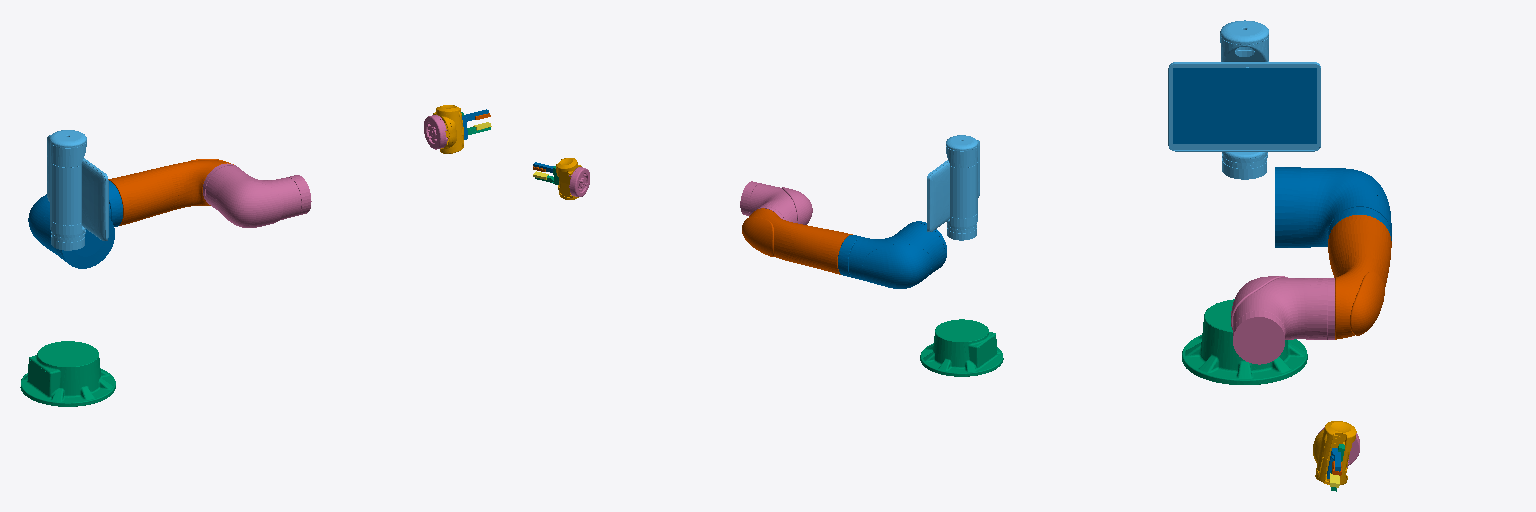
The robot description file, URDF, robot "sawyer_instanceable":
<?xml version="1.0" encoding="UTF-8"?>
<robot name="sawyer_instanceable">
  <joint name="display_joint" type="fixed">
    <origin xyz="0.105 0. -0.03 " rpy="3.1415927 0. 1.5707964"/>
    <parent link="head"/>
    <child link="screen"/>
  </joint>
  <joint name="head_pan" type="revolute">
    <origin xyz="0.2965 0. 0. " rpy="0. 0. 0."/>
    <parent link="right_l0"/>
    <child link="head"/>
    <axis xyz="1. 0. 0."/>
    <limit lower="-5.0951997" upper="0.9064" effort="480." velocity="1.8"/>
  </joint>
  <joint name="right_arm_mount" type="fixed">
    <origin xyz="0. 0. 0." rpy="0. 0. 0."/>
    <parent link="base"/>
    <child link="right_arm_base_link"/>
  </joint>
  <joint name="right_j0" type="revolute">
    <origin xyz="0. 0. 0.08" rpy="0. -1.5707964 0. "/>
    <parent link="right_arm_base_link"/>
    <child link="right_l0"/>
    <axis xyz="1. 0. 0."/>
    <limit lower="-3.0502998" upper="3.0502998" effort="4800." velocity="1.74"/>
  </joint>
  <joint name="right_j1" type="revolute">
    <origin xyz="0.237 0.05 -0.081" rpy="1.5707964 0. 1.5707964"/>
    <parent link="right_l0"/>
    <child link="right_l1"/>
    <axis xyz="1. 0. 0."/>
    <limit lower="-3.8094999" upper="2.2736" effort="4800." velocity="1.3279999"/>
  </joint>
  <joint name="right_j2" type="revolute">
    <origin xyz="0.1425 -0.14 -0. " rpy="-0. 0. -1.5707963"/>
    <parent link="right_l1"/>
    <child link="right_l2"/>
    <axis xyz="1. 0. 0."/>
    <limit lower="-3.0425998" upper="3.0425998" effort="2400." velocity="1.957"/>
  </joint>
  <joint name="right_j3" type="revolute">
    <origin xyz="0.26 -0.042 -0.0000001" rpy="0.0000002 -0. 1.5707963"/>
    <parent link="right_l2"/>
    <child link="right_l3"/>
    <axis xyz="1. 0. 0."/>
    <limit lower="-3.0438999" upper="3.0438999" effort="2400." velocity="1.957"/>
  </joint>
  <joint name="right_j4" type="revolute">
    <origin xyz="-0.1265 -0.1249999 0. " rpy="-0.0000001 -0.0000001 -1.5707963"/>
    <parent link="right_l3"/>
    <child link="right_l4"/>
    <axis xyz="1. 0. 0."/>
    <limit lower="-2.9760998" upper="2.9760998" effort="540." velocity="3.4849998"/>
  </joint>
  <joint name="right_j5" type="revolute">
    <origin xyz="0.2749999 0.031 0. " rpy="0.0000001 -0.0000001 1.5707963"/>
    <parent link="right_l4"/>
    <child link="right_l5"/>
    <axis xyz="1. 0. 0."/>
    <limit lower="-2.9760998" upper="2.9760998" effort="540." velocity="3.4849998"/>
  </joint>
  <joint name="right_j6" type="revolute">
    <origin xyz="0.1053 -0.11 0. " rpy="2.9670625 0.0000072 -1.5707961"/>
    <parent link="right_l5"/>
    <child link="right_l6"/>
    <axis xyz="1. 0. 0."/>
    <limit lower="-4.7123996" upper="4.7123996" effort="540." velocity="4.5450003"/>
  </joint>
  <joint name="right_l6_right_hand" type="fixed">
    <origin xyz="0.0245 0. 0. " rpy="1.5707961 0.0000001 0.0000002"/>
    <parent link="right_l6"/>
    <child link="sawyer_right_hand"/>
  </joint>
  <joint name="right_connector_plate_base_joint" type="fixed">
    <origin xyz="0. 0. 0.0018" rpy="0. 0. 0."/>
    <parent link="right_gripper_base"/>
    <child link="right_connector_plate_base"/>
  </joint>
  <joint name="right_connector_plate_mount_joint" type="fixed">
    <origin xyz="0. -0. 0.0176001" rpy="0. 0. 0."/>
    <parent link="right_connector_plate_base"/>
    <child link="right_connector_plate_mount"/>
  </joint>
  <joint name="right_electric_gripper_base_joint" type="fixed">
    <origin xyz="0. -0. -0.0000001" rpy="0. 0. 0."/>
    <parent link="right_connector_plate_mount"/>
    <child link="right_electric_gripper_base"/>
  </joint>
  <joint name="right_gripper_base_joint" type="fixed">
    <origin xyz="0. 0. -0.005" rpy="-1.5707964 1.5707964 -1.5707964"/>
    <parent link="sawyer_right_hand"/>
    <child link="right_gripper_base"/>
  </joint>
  <joint name="right_gripper_l_finger_joint" type="prismatic">
    <origin xyz="0.003 -0.0015 0.04552" rpy="-0. 0.0000001 -0.0000002"/>
    <parent link="right_electric_gripper_base"/>
    <child link="right_gripper_l_finger"/>
    <axis xyz="0. 1. 0."/>
    <limit lower="0." upper="0.020833" effort="20." velocity="5."/>
  </joint>
  <joint name="right_gripper_l_finger_tip_joint" type="fixed">
    <origin xyz="-0. 0.01725 0.075 " rpy="0.0000001 0. -0.0000001"/>
    <parent link="right_gripper_l_finger"/>
    <child link="right_gripper_l_finger_tip"/>
  </joint>
  <joint name="right_gripper_r_finger_joint" type="prismatic">
    <origin xyz="0.003 0.0015 0.04552" rpy="-0. 0.0000001 -0.0000002"/>
    <parent link="right_electric_gripper_base"/>
    <child link="right_gripper_r_finger"/>
    <axis xyz="0. 1. 0."/>
    <limit lower="-0.020833" upper="0." effort="340282346638528859811704183484516925440." velocity="5."/>
  </joint>
  <joint name="right_gripper_r_finger_tip_joint" type="fixed">
    <origin xyz="-0. -0.01725 0.0750001" rpy="0. -0.0000001 0. "/>
    <parent link="right_gripper_r_finger"/>
    <child link="right_gripper_r_finger_tip"/>
  </joint>
  <joint name="right_gripper_tip_joint" type="fixed">
    <origin xyz="0. 0. 0.14062" rpy="0. 0. 0."/>
    <parent link="right_gripper_base"/>
    <child link="right_gripper_tip"/>
  </joint>
  <joint name="root_joint" type="fixed">
    <origin xyz="0. 0. 0." rpy="0. 0. 0."/>
    <parent link="sawyer"/>
    <child link="base"/>
  </joint>
  <joint name="torso_t0" type="fixed">
    <origin xyz="0. 0. 0." rpy="0. 0. 0."/>
    <parent link="base"/>
    <child link="torso"/>
  </joint>
  <link name="base">
    <inertial>
      <origin xyz="0. 0. 0." rpy="0. 0. 0."/>
      <mass value="0."/>
      <inertia ixx="0." ixy="0." ixz="0." iyy="0." iyz="0." izz="0."/>
    </inertial>
  </link>
  <link name="head">
    <inertial>
      <origin xyz="0.0053207 -0.0000265 0.1021 " rpy="0. 0. 0."/>
      <mass value="1.5795"/>
      <inertia ixx="0.011833" ixy="0." ixz="0." iyy="0.0082709" iyz="0." izz="0.0049661"/>
    </inertial>
    <visual>
      <origin xyz="0. 0. 0." rpy="0. 1.5707964 0. "/>
      <geometry>
        <mesh filename="./meshes/head_visuals_mesh_0.obj" scale="1. 1. 1."/>
      </geometry>
    </visual>
    <collision>
      <origin xyz="0.08 0. 0. " rpy="0. 1.5707964 0. "/>
      <geometry>
        <sphere radius="0.18"/>
      </geometry>
    </collision>
  </link>
  <link name="right_arm_base_link">
    <inertial>
      <origin xyz="-0.0006241 -0.000028 0.065404 " rpy="0. 0. 0."/>
      <mass value="2.0687001"/>
      <inertia ixx="0.0067599" ixy="0." ixz="0." iyy="0.0067877" iyz="0." izz="0.0074031"/>
    </inertial>
    <visual>
      <origin xyz="0. 0. 0." rpy="0. 0. 0."/>
      <geometry>
        <mesh filename="./meshes/right_arm_base_link_visuals_mesh_0.obj" scale="1. 1. 1."/>
      </geometry>
    </visual>
    <collision>
      <origin xyz="0. 0. 0.12" rpy="0. 0. 0."/>
      <geometry>
        <cylinder radius="0.08" length="0.24"/>
      </geometry>
    </collision>
  </link>
  <link name="right_l0">
    <inertial>
      <origin xyz="0.024366 0.010969 0.14363 " rpy="0. 0. 0."/>
      <mass value="5.3213"/>
      <inertia ixx="0.053314" ixy="0." ixz="0." iyy="0.057902" iyz="0." izz="0.023659"/>
    </inertial>
    <visual>
      <origin xyz="0. 0. 0." rpy="0. 1.5707964 0. "/>
      <geometry>
        <mesh filename="./meshes/right_l0_visuals_mesh_0.obj" scale="1. 1. 1."/>
      </geometry>
    </visual>
    <collision>
      <origin xyz="0.23 0. -0.08" rpy="0. 1.5707964 0. "/>
      <geometry>
        <sphere radius="0.07"/>
      </geometry>
    </collision>
  </link>
  <link name="right_l1">
    <inertial>
      <origin xyz="-0.0030849 -0.026811 0.092521 " rpy="0. 0. 0."/>
      <mass value="4.5050001"/>
      <inertia ixx="0.022398" ixy="0." ixz="0." iyy="0.014613" iyz="0." izz="0.017295"/>
    </inertial>
    <visual>
      <origin xyz="0. 0. 0." rpy="-0. 1.5707963 0. "/>
      <geometry>
        <mesh filename="./meshes/right_l1_visuals_mesh_0.obj" scale="1. 1. 1."/>
      </geometry>
    </visual>
    <collision>
      <origin xyz="0.1225 0. -0. " rpy="-0. 1.5707963 0. "/>
      <geometry>
        <sphere radius="0.07"/>
      </geometry>
    </collision>
  </link>
  <link name="right_l2">
    <inertial>
      <origin xyz="-0.0001604 -0.014967 0.13582 " rpy="0. 0. 0."/>
      <mass value="1.745"/>
      <inertia ixx="0.025506" ixy="0." ixz="0." iyy="0.0253" iyz="0." izz="0.0034179"/>
    </inertial>
    <visual>
      <origin xyz="-0. -0. -0." rpy="2.9025872 1.5707961 2.9025872"/>
      <geometry>
        <mesh filename="./meshes/right_l2_visuals_mesh_0.obj" scale="1. 1. 1."/>
      </geometry>
    </visual>
    <collision>
      <origin xyz="0.08 -0. -0. " rpy="2.9025872 1.5707961 2.9025872"/>
      <geometry>
        <cylinder radius="0.06" length="0.34"/>
      </geometry>
    </collision>
  </link>
  <link name="right_l3">
    <inertial>
      <origin xyz="-0.0048135 -0.0281 -0.084154 " rpy="0. 0. 0."/>
      <mass value="2.5097001"/>
      <inertia ixx="0.01016" ixy="0." ixz="0." iyy="0.0065685" iyz="0." izz="0.0069078"/>
    </inertial>
    <visual>
      <origin xyz="0. 0.0000001 -0. " rpy="-2.1431708 1.5707961 -2.1431708"/>
      <geometry>
        <mesh filename="./meshes/right_l3_visuals_mesh_0.obj" scale="1. 1. 1."/>
      </geometry>
    </visual>
    <collision>
      <origin xyz="-0.12 -0.0099999 0. " rpy="-2.1431708 1.5707961 -2.1431708"/>
      <geometry>
        <sphere radius="0.06"/>
      </geometry>
    </collision>
  </link>
  <link name="right_l4">
    <inertial>
      <origin xyz="-0.0018844 0.0069001 0.1341 " rpy="0. 0. 0."/>
      <mass value="1.1136"/>
      <inertia ixx="0.013557" ixy="0." ixz="0." iyy="0.013555" iyz="0." izz="0.0013658"/>
    </inertial>
    <visual>
      <origin xyz="-0.0000001 0.0000001 0.0000001" rpy="2.5692182 1.5707961 2.5692182"/>
      <geometry>
        <mesh filename="./meshes/right_l4_visuals_mesh_0.obj" scale="1. 1. 1."/>
      </geometry>
    </visual>
    <collision>
      <origin xyz="0.1099999 0.0000001 0. " rpy="2.5692182 1.5707961 2.5692182"/>
      <geometry>
        <cylinder radius="0.045" length="0.3"/>
      </geometry>
    </collision>
  </link>
  <link name="right_l5">
    <inertial>
      <origin xyz="0.0061133 -0.023697 0.076416 " rpy="0. 0. 0."/>
      <mass value="1.5625"/>
      <inertia ixx="0.0047328" ixy="0." ixz="0." iyy="0.0029676" iyz="0." izz="0.0031762"/>
    </inertial>
    <visual>
      <origin xyz="-0. 0. -0." rpy="-2.1431708 1.5707961 -2.1431708"/>
      <geometry>
        <mesh filename="./meshes/right_l5_visuals_mesh_0.obj" scale="1. 1. 1."/>
      </geometry>
    </visual>
    <collision>
      <origin xyz="0.1 0. -0. " rpy="-2.1431708 1.5707961 -2.1431708"/>
      <geometry>
        <sphere radius="0.06"/>
      </geometry>
    </collision>
  </link>
  <link name="right_l6">
    <inertial>
      <origin xyz="-0.0000081 0.0085838 -0.0049566" rpy="0. 0. 0."/>
      <mass value="0.3292"/>
      <inertia ixx="0.0003111" ixy="0." ixz="0." iyy="0.0002155" iyz="0." izz="0.0003598"/>
    </inertial>
    <visual>
      <origin xyz="-0. -0. 0." rpy="-0.0000002 1.5707963 0. "/>
      <geometry>
        <mesh filename="./meshes/right_l6_visuals_mesh_0.obj" scale="1. 1. 1."/>
      </geometry>
    </visual>
    <collision>
      <origin xyz="-0.01 0.015 0. " rpy="-0.0000002 1.5707963 0. "/>
      <geometry>
        <cylinder radius="0.055" length="0.05"/>
      </geometry>
    </collision>
  </link>
  <link name="sawyer"/>
  <link name="sawyer_right_hand">
    <inertial>
      <origin xyz="0. 0. 0." rpy="0. 0. 0."/>
      <mass value="0."/>
      <inertia ixx="0." ixy="0." ixz="0." iyy="0." iyz="0." izz="0."/>
    </inertial>
  </link>
  <link name="screen">
    <inertial>
      <origin xyz="0. 0. 0." rpy="0. 0. 0."/>
      <mass value="0.0001"/>
      <inertia ixx="0." ixy="0." ixz="0." iyy="0." iyz="0." izz="0."/>
    </inertial>
    <visual>
      <origin xyz="0. -0. 0." rpy="0. 0. 0."/>
      <geometry>
        <box size="0.24 0.14 0.002"/>
      </geometry>
    </visual>
    <collision>
      <origin xyz="0. -0. 0." rpy="0. 0. 0."/>
      <geometry>
        <sphere radius="0.001"/>
      </geometry>
    </collision>
  </link>
  <link name="torso">
    <inertial>
      <origin xyz="0. 0. 0." rpy="0. 0. 0."/>
      <mass value="0.0001"/>
      <inertia ixx="0." ixy="0." ixz="0." iyy="0." iyz="0." izz="0."/>
    </inertial>
    <visual>
      <origin xyz="0. 0. 0." rpy="0. 0. 0."/>
      <geometry>
        <box size="0.001 0.001 0.001"/>
      </geometry>
    </visual>
  </link>
  <link name="right_connector_plate_base">
    <inertial>
      <origin xyz="0. 0. 0." rpy="0. 0. 0."/>
      <mass value="0.000001"/>
      <inertia ixx="0.001" ixy="0." ixz="0." iyy="0.001" iyz="0." izz="0.001"/>
    </inertial>
    <visual>
      <origin xyz="-0. 0. 0.0000002" rpy="0. 0. 0."/>
      <geometry>
        <mesh filename="meshes/right_connector_plate_base_visuals.obj" scale="1. 1. 1."/>
      </geometry>
    </visual>
    <collision>
      <origin xyz="0. -0. 0.0135001" rpy="0. 0. 0."/>
      <geometry>
        <cylinder radius="0.04" length="0.0302"/>
      </geometry>
    </collision>
  </link>
  <link name="right_connector_plate_mount">
    <inertial>
      <origin xyz="0. 0. 0." rpy="0. 0. 0."/>
      <mass value="0.000001"/>
      <inertia ixx="0.00001" ixy="0." ixz="0." iyy="0.00001" iyz="0." izz="0.00001"/>
    </inertial>
  </link>
  <link name="right_electric_gripper_base">
    <inertial>
      <origin xyz="0. 0. 0." rpy="0. 0. 0."/>
      <mass value="0.000002"/>
      <inertia ixx="0.001" ixy="0." ixz="0." iyy="0.001" iyz="0." izz="0.001"/>
    </inertial>
    <visual>
      <origin xyz="-0. 0. 0." rpy="-0. 0.0000001 -0.0000002"/>
      <geometry>
        <mesh filename="meshes/right_electric_gripper_base_visuals.obj" scale="1. 1. 1."/>
      </geometry>
    </visual>
    <collision>
      <origin xyz="0.004 -0. 0.025" rpy="1.5707964 -0.0000002 3.1415925"/>
      <geometry>
        <cylinder radius="0.029" length="0.1"/>
      </geometry>
    </collision>
  </link>
  <link name="right_gripper_base">
    <inertial>
      <origin xyz="0. 0. 0." rpy="0. 0. 0."/>
      <mass value="0.47"/>
      <inertia ixx="0.00001" ixy="0." ixz="0." iyy="0.00001" iyz="0." izz="0.00001"/>
    </inertial>
  </link>
  <link name="right_gripper_l_finger">
    <inertial>
      <origin xyz="0. 0. 0." rpy="0. 0. 0."/>
      <mass value="0.001"/>
      <inertia ixx="0.001" ixy="0." ixz="0." iyy="0.001" iyz="0." izz="0.001"/>
    </inertial>
    <visual>
      <origin xyz="0. -0. -0." rpy="-0.0000001 -0. 3.1415925"/>
      <geometry>
        <mesh filename="meshes/right_gripper_l_finger_visuals_mesh_0.obj" scale="1. 1. 1."/>
      </geometry>
    </visual>
    <visual>
      <origin xyz="-0. 0.01725 0.04 " rpy="-0.0000001 -0. 3.1415925"/>
      <geometry>
        <box size="0.01 0.0135 0.075 "/>
      </geometry>
    </visual>
    <visual>
      <origin xyz="-0.005 -0.003 0.0083" rpy="-0.0000001 -0. 3.1415925"/>
      <geometry>
        <box size="0.01 0.05 0.017"/>
      </geometry>
    </visual>
    <collision>
      <origin xyz="-0. 0.01725 0.04 " rpy="-0.0000001 -0. 3.1415925"/>
      <geometry>
        <box size="0.01 0.0135 0.075 "/>
      </geometry>
    </collision>
  </link>
  <link name="right_gripper_l_finger_tip">
    <inertial>
      <origin xyz="0. 0. 0." rpy="0. 0. 0."/>
      <mass value="0.001"/>
      <inertia ixx="0.001" ixy="0." ixz="0." iyy="0.001" iyz="0." izz="0.001"/>
    </inertial>
    <visual>
      <origin xyz="-0. -0. -0." rpy="-0.0000001 0.0000003 -3.1415923"/>
      <geometry>
        <mesh filename="meshes/right_gripper_l_finger_tip_visuals_mesh_0.obj" scale="1. 1. 1."/>
      </geometry>
    </visual>
    <visual>
      <origin xyz="-0. -0.0045 -0.015 " rpy="-0.0000001 0.0000003 -3.1415923"/>
      <geometry>
        <box size="0.016 0.007 0.037"/>
      </geometry>
    </visual>
    <collision>
      <origin xyz="-0. -0.0045 -0.015 " rpy="-0.0000001 0.0000003 -3.1415923"/>
      <geometry>
        <box size="0.016 0.007 0.037"/>
      </geometry>
    </collision>
  </link>
  <link name="right_gripper_r_finger">
    <inertial>
      <origin xyz="0. 0. 0." rpy="0. 0. 0."/>
      <mass value="0.001"/>
      <inertia ixx="0.001" ixy="0." ixz="0." iyy="0.001" iyz="0." izz="0.001"/>
    </inertial>
    <visual>
      <origin xyz="-0. -0. 0.0000001" rpy="0. -0.0000001 0. "/>
      <geometry>
        <mesh filename="meshes/right_gripper_r_finger_visuals_mesh_0.obj" scale="1. 1. 1."/>
      </geometry>
    </visual>
    <visual>
      <origin xyz="-0. -0.01725 0.0400001" rpy="0. -0.0000001 0. "/>
      <geometry>
        <box size="0.01 0.0135 0.075 "/>
      </geometry>
    </visual>
    <visual>
      <origin xyz="0.005 0.003 0.0083001" rpy="0. -0.0000001 0. "/>
      <geometry>
        <box size="0.01 0.05 0.017"/>
      </geometry>
    </visual>
    <collision>
      <origin xyz="-0. -0.01725 0.0400001" rpy="0. -0.0000001 0. "/>
      <geometry>
        <box size="0.01 0.0135 0.075 "/>
      </geometry>
    </collision>
  </link>
  <link name="right_gripper_r_finger_tip">
    <inertial>
      <origin xyz="0. 0. 0." rpy="0. 0. 0."/>
      <mass value="0.001"/>
      <inertia ixx="0.001" ixy="0." ixz="0." iyy="0.001" iyz="0." izz="0.001"/>
    </inertial>
    <visual>
      <origin xyz="0. -0. -0." rpy="0.0000003 0. 0.0000001"/>
      <geometry>
        <mesh filename="meshes/right_gripper_r_finger_tip_visuals_mesh_0.obj" scale="1. 1. 1."/>
      </geometry>
    </visual>
    <visual>
      <origin xyz="0. 0.0045 -0.015 " rpy="0.0000003 0. 0.0000001"/>
      <geometry>
        <box size="0.016 0.007 0.037"/>
      </geometry>
    </visual>
    <collision>
      <origin xyz="0. 0.0045 -0.015 " rpy="0.0000003 0. 0.0000001"/>
      <geometry>
        <box size="0.016 0.007 0.037"/>
      </geometry>
    </collision>
  </link>
  <link name="right_gripper_tip">
    <inertial>
      <origin xyz="0. 0. 0." rpy="0. 0. 0."/>
      <mass value="0.000002"/>
      <inertia ixx="0.00001" ixy="0." ixz="0." iyy="0.00001" iyz="0." izz="0.00001"/>
    </inertial>
  </link>
</robot>

--- Facts derived from the render (not from the file) ---
3 views of the same robot in one strip: view 1: azimuth 30°, elevation 25°; view 2: azimuth 150°, elevation 25°; view 3: azimuth 270°, elevation 25° (orthographic).
Model sawyer_instanceable with 23 links and 22 joints (8 revolute, 2 prismatic, 12 fixed), rooted at sawyer, posed all joints at 0.
Links seen in each view (by area): view 1: head, right_l3, right_arm_base_link, right_l2, right_l1, right_electric_gripper_base, right_connector_plate_base; view 2: right_l1, head, right_l2, right_arm_base_link, right_l3, right_electric_gripper_base; view 3: screen, right_l3, right_l1, right_l2, head, right_arm_base_link, right_electric_gripper_base.
Link boxes in pixels (x1=…): head: x1=47, y1=130, x2=108, y2=250; right_l3: x1=203, y1=163, x2=311, y2=227; right_arm_base_link: x1=20, y1=341, x2=115, y2=406; right_l2: x1=108, y1=159, x2=233, y2=225; right_l1: x1=28, y1=181, x2=122, y2=268; right_electric_gripper_base: x1=433, y1=105, x2=463, y2=153; right_connector_plate_base: x1=424, y1=115, x2=447, y2=149; right_l1: x1=838, y1=221, x2=946, y2=288; head: x1=927, y1=135, x2=979, y2=240; right_l2: x1=742, y1=208, x2=852, y2=274; right_arm_base_link: x1=920, y1=319, x2=1003, y2=376; right_l3: x1=740, y1=181, x2=812, y2=224; right_electric_gripper_base: x1=556, y1=158, x2=581, y2=199; screen: x1=1173, y1=68, x2=1316, y2=143; right_l3: x1=1231, y1=276, x2=1334, y2=364; right_l1: x1=1275, y1=167, x2=1391, y2=247; right_l2: x1=1328, y1=215, x2=1391, y2=339; head: x1=1168, y1=20, x2=1320, y2=179; right_arm_base_link: x1=1182, y1=299, x2=1307, y2=384; right_electric_gripper_base: x1=1313, y1=421, x2=1356, y2=484.
Bounding box of the posed robot: 1.26 × 0.3738 × 0.6105 m (x, y, z).
Meshes: 15 distinct files referenced, 11 mesh visuals loaded (11 OBJ); not drawn: 4 (reference not matched to a file when rendering).
